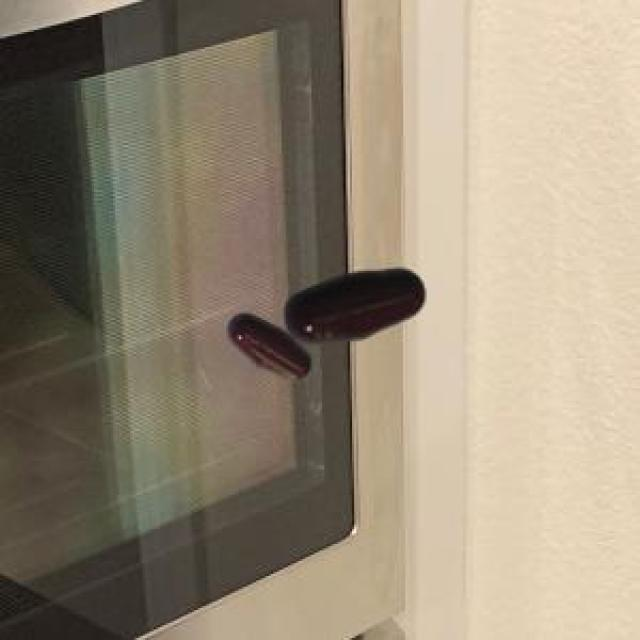DayZinc: (214, 262, 433, 405)
